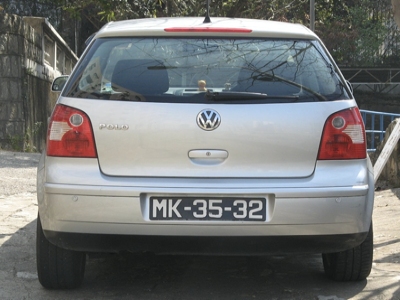licence: (149, 197, 267, 223)
